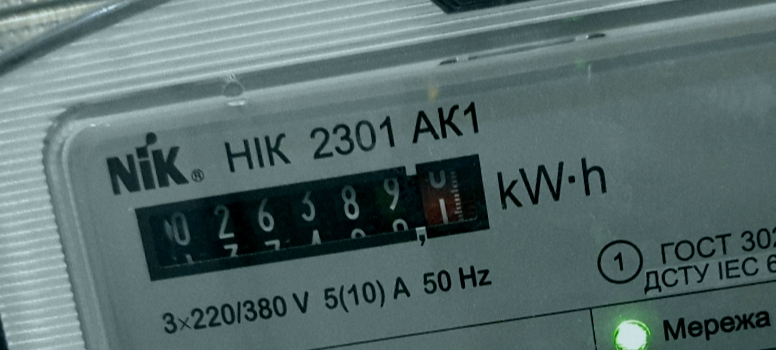0: (165, 205, 194, 247), (426, 166, 447, 189)
1: (434, 192, 451, 225)
2: (209, 199, 237, 240)
3: (295, 187, 317, 223)
6: (252, 192, 276, 233)
8: (337, 180, 363, 221)
9: (380, 174, 402, 210)
screen: (117, 138, 507, 294)
